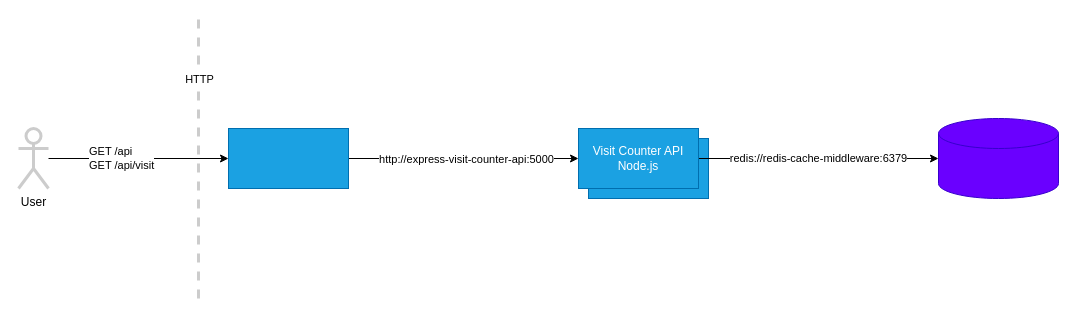
Some shapes in this 1076 by 318 pixel diagram are drawn without their labels. Each missing label, with the centre of its shape:
"Nginx LB & Proxy" goes at (288,158).
"Redis" goes at (998,158).
